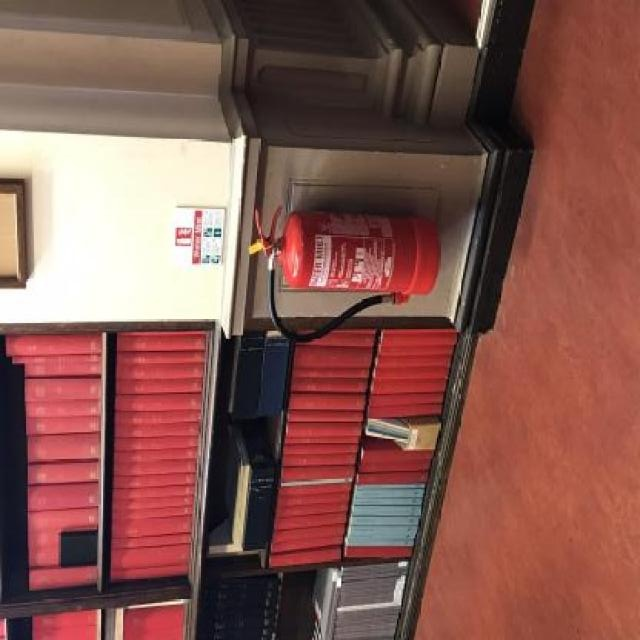fire extinguisher: (256, 203, 439, 343)
